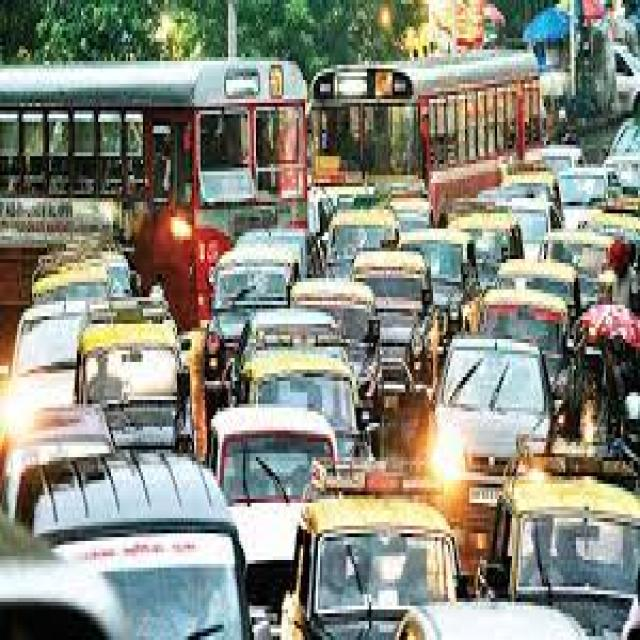bus: (0, 57, 538, 328), (311, 50, 540, 225)
car: (9, 453, 247, 640), (211, 408, 335, 640), (435, 335, 550, 571), (480, 472, 638, 640), (282, 499, 454, 640), (205, 244, 297, 408), (290, 278, 382, 434), (77, 320, 175, 450), (243, 350, 356, 461), (352, 251, 429, 392), (4, 301, 85, 430), (233, 309, 339, 400), (399, 229, 478, 350), (482, 290, 563, 400), (399, 602, 587, 640), (450, 213, 521, 290), (32, 251, 130, 305), (480, 171, 561, 229), (331, 210, 395, 278), (499, 259, 576, 309), (508, 198, 548, 259), (525, 145, 580, 175)
